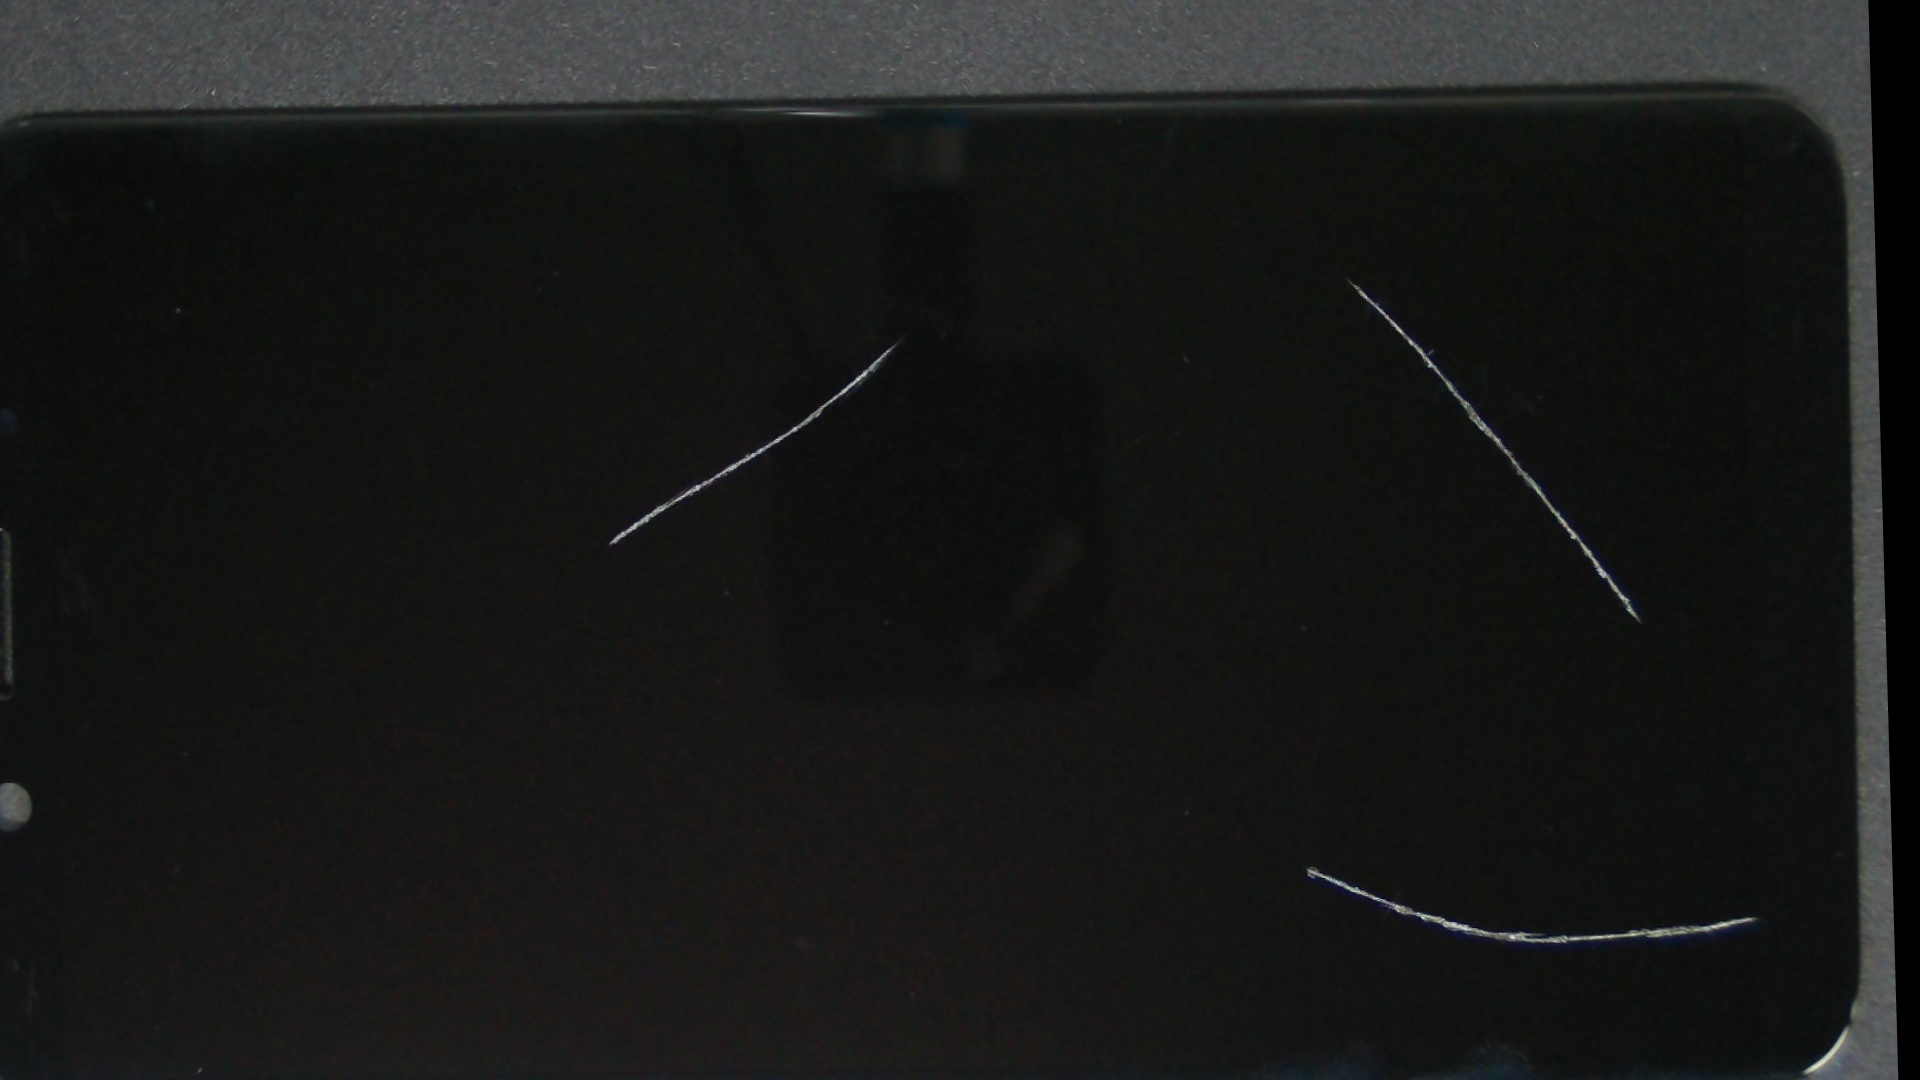oil: (608, 393, 1900, 1080), (624, 100, 1880, 462), (401, 140, 1394, 543)
